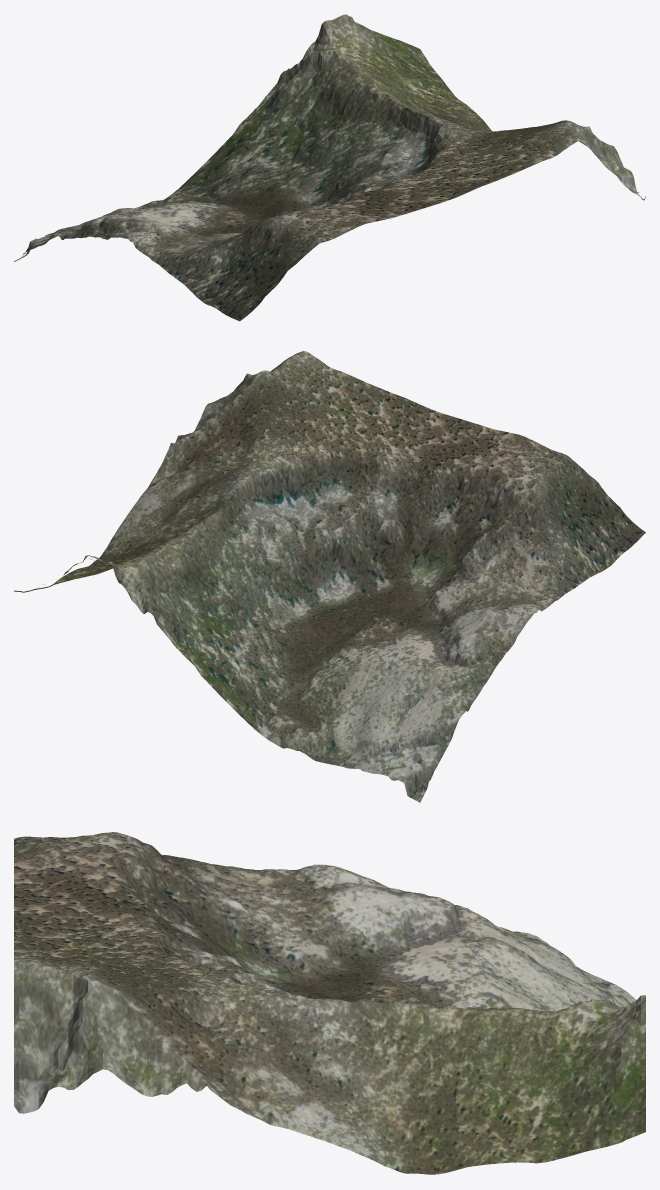
3 renders of one model, top to bottom at view 1: azimuth 30°, elevation 25°; view 2: azimuth 150°, elevation 25°; view 3: azimuth 270°, elevation 25°, orthographic. The views are drawn at different scales.
Size of the model in its own units: 1000 by 482 by 963.
Materials: 1 (1 with a texture image).
